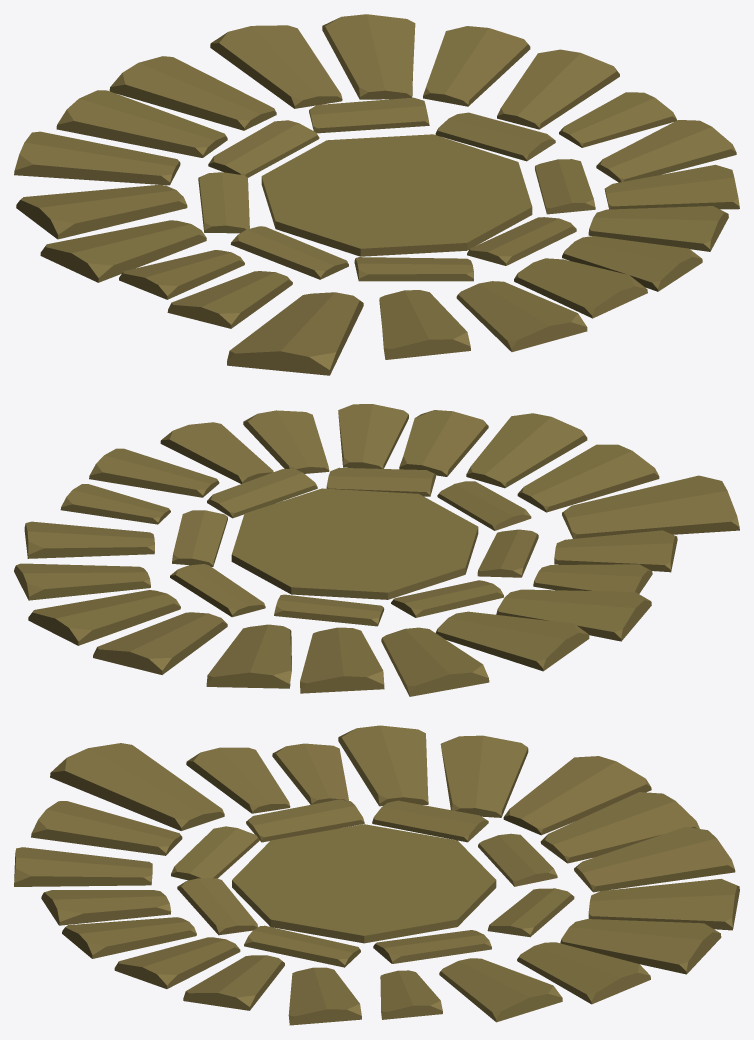
Rendered from OutsideTiles1.fbx.
3 renders of one model, top to bottom at view 1: azimuth 30°, elevation 25°; view 2: azimuth 150°, elevation 25°; view 3: azimuth 270°, elevation 25°, orthographic. The views are drawn at different scales.
Visible parts, largest first — view 1: OutsideTiles1; view 2: OutsideTiles1; view 3: OutsideTiles1.
Boxes of the visible parts, x1,y1,x2,y2 form: OutsideTiles1: (14,14,739,375); OutsideTiles1: (14,404,739,696); OutsideTiles1: (14,725,739,1025).
Size of the model in its own units: 130 by 5.12 by 139.
